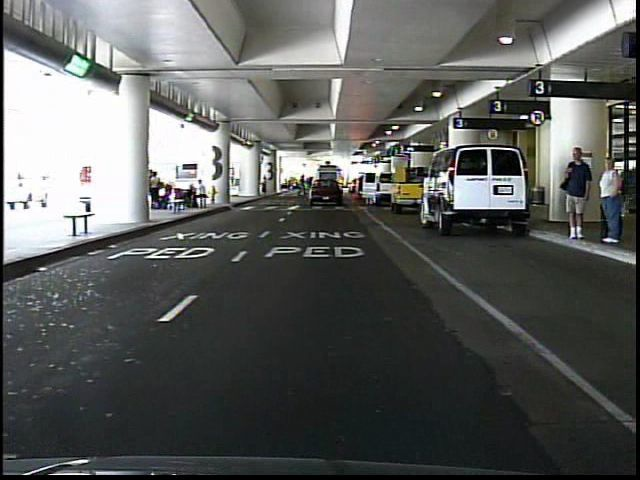person: (592, 152, 627, 245), (560, 145, 593, 243), (261, 170, 273, 195)
